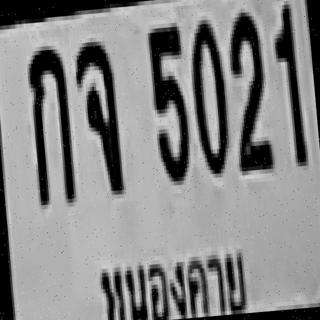A01: (23, 41, 74, 201)
A08: (71, 36, 122, 193)
N00: (186, 15, 229, 171)
N01: (269, 0, 304, 164)
N02: (224, 7, 272, 168)
N05: (145, 22, 190, 182)
P36: (86, 230, 255, 320)
